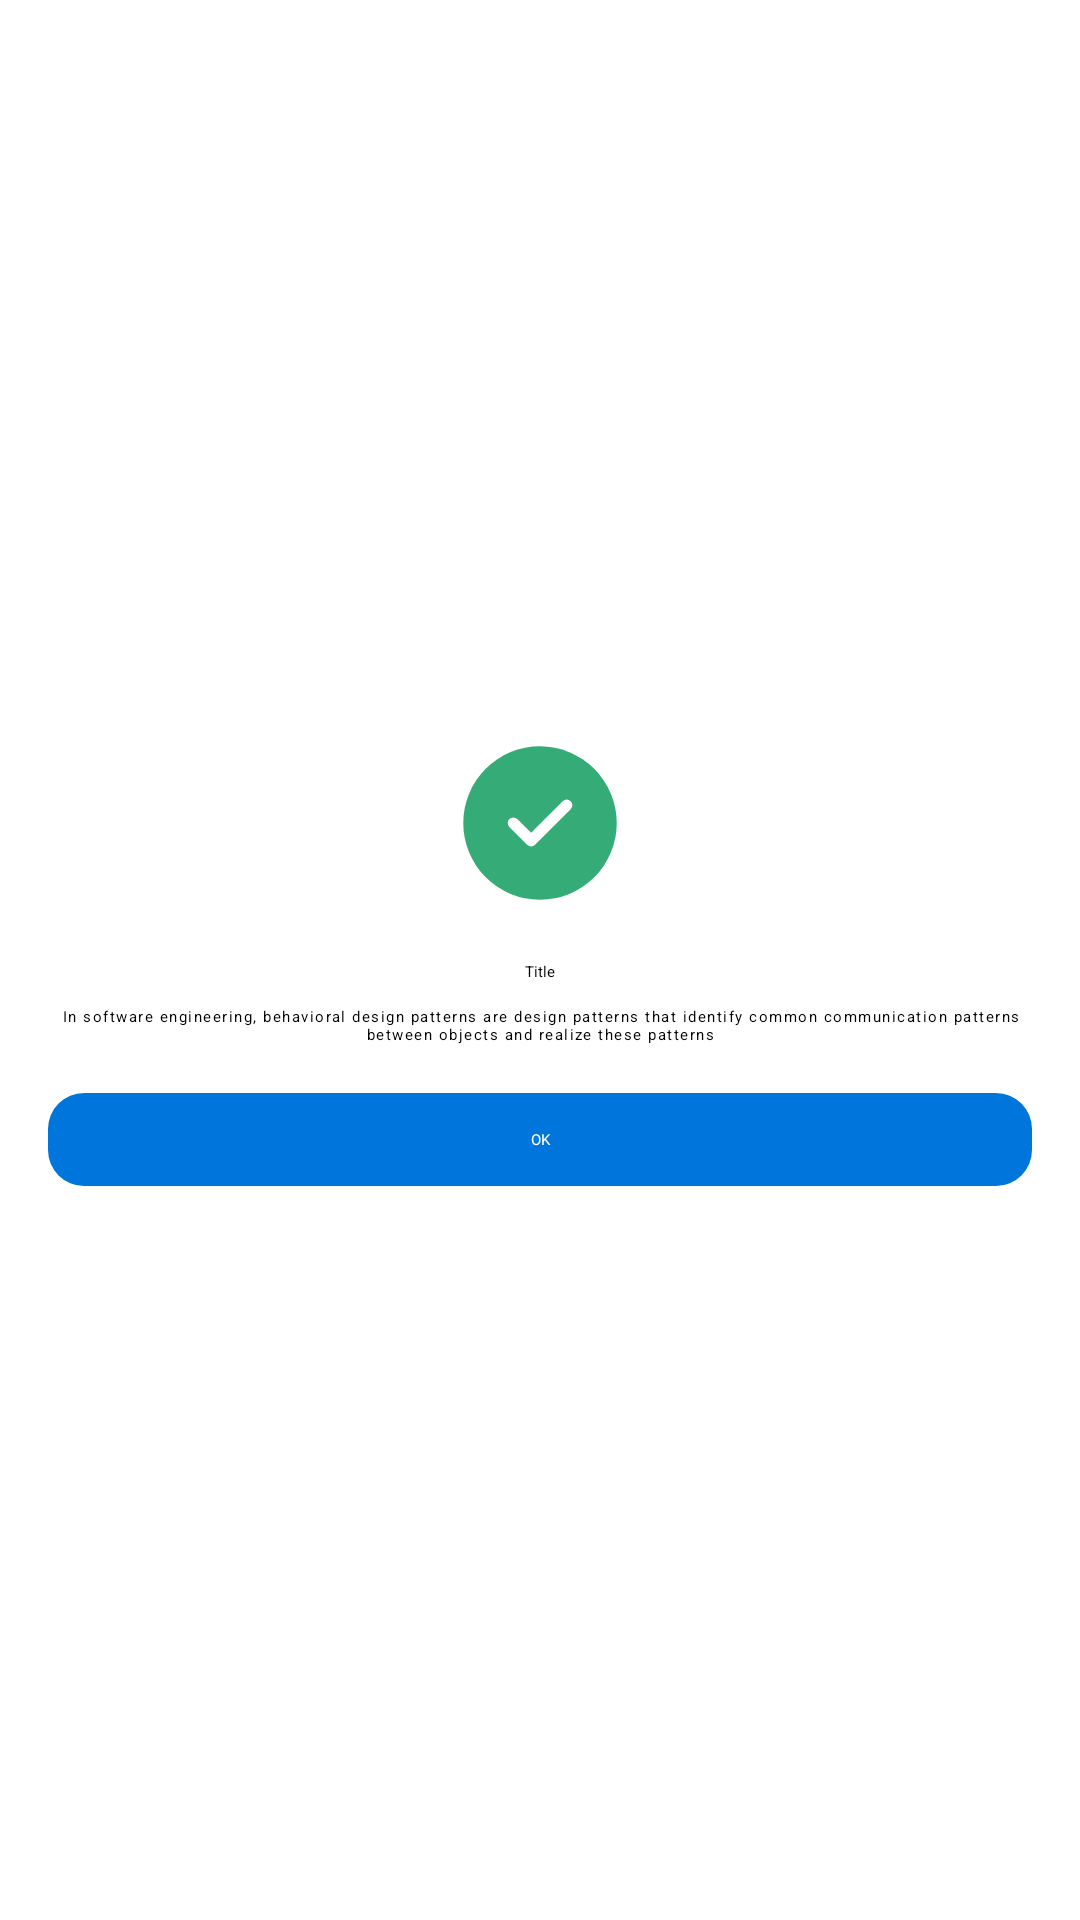

Named icons in this screenshot (1080 x 1920) and their centers, (x,y):
success: (540,823)
